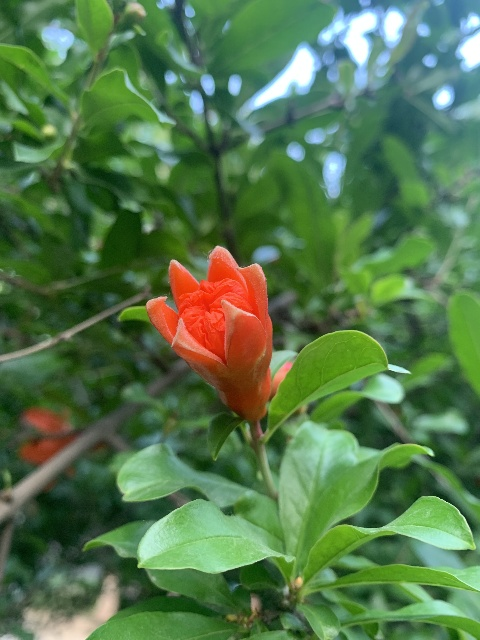flower: (144, 246, 273, 420)
